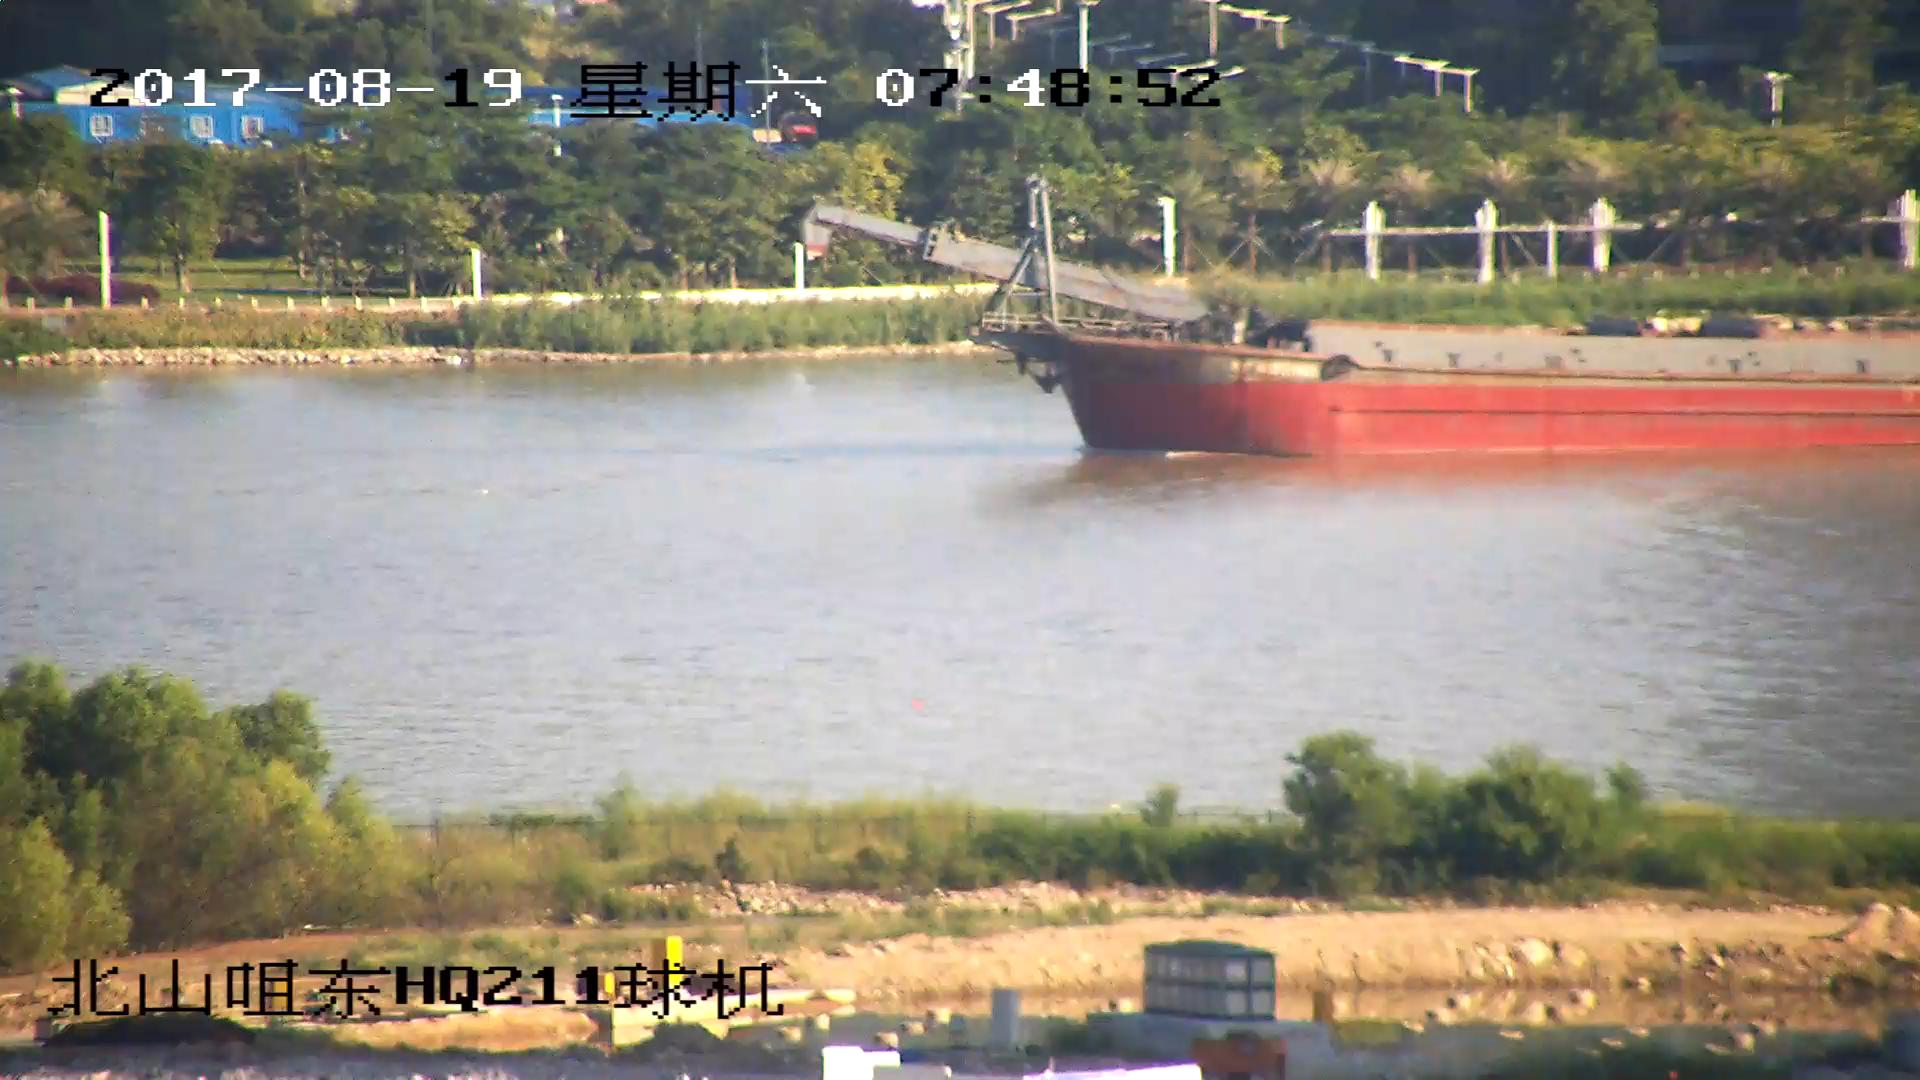bulk cargo carrier: (806, 190, 1920, 457)
